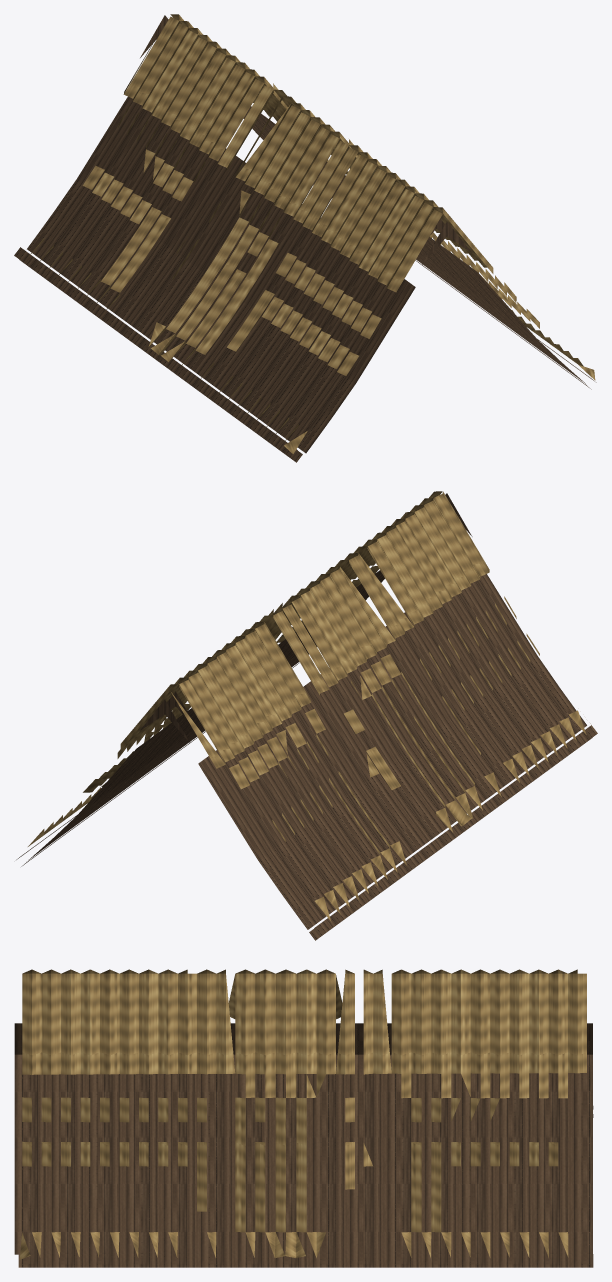
The model's file is Roof_Thatch_8x14_LOD1.gltf.
The picture shows the model from 3 angles, top to bottom: view 1: azimuth 30°, elevation 25°; view 2: azimuth 150°, elevation 25°; view 3: azimuth 270°, elevation 25°; orthographic projection. The views are drawn at different scales.
Visible parts, largest first — view 1: Roof_Thatch_8x14_LOD1; view 2: Roof_Thatch_8x14_LOD1; view 3: Roof_Thatch_8x14_LOD1.
Boxes of the visible parts, box(x1,y1,x2,y2) form: Roof_Thatch_8x14_LOD1: box(14, 14, 596, 462); Roof_Thatch_8x14_LOD1: box(16, 491, 597, 940); Roof_Thatch_8x14_LOD1: box(14, 969, 593, 1267).
Bounding box in the file's own units: 9.95 × 6.54 × 15.66.
2 materials, 2 textured.
